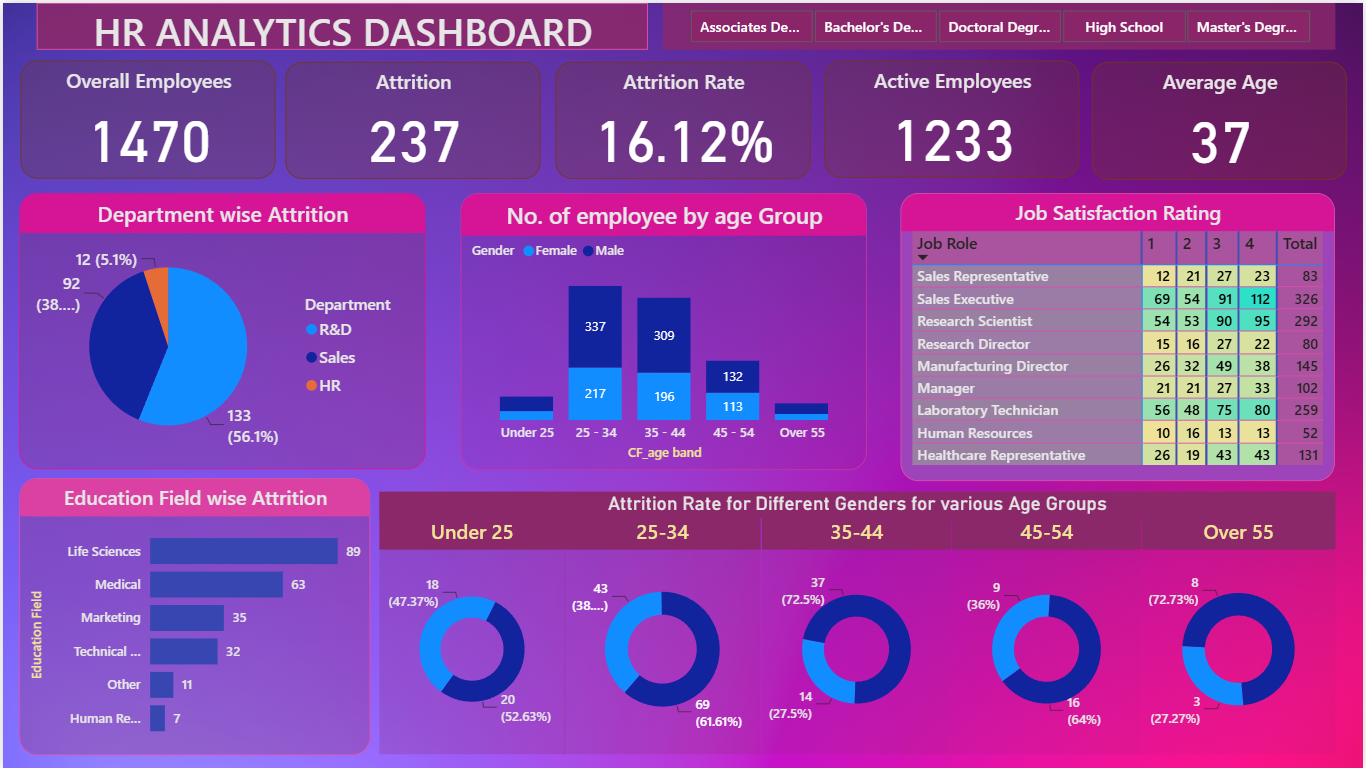

The dashboard page shown, as its layout file describes it:
{"tool":"powerbi","page":{"name":"Page 1","canvas":[1280,720],"ordinal":0},"visuals":[{"type":"card","title":"Overall Employees","fields":{"Values":["Sum(HR data.Employee Count)"]},"box":[16.2,53.8,240,111.2],"z":0},{"type":"card","title":"Attrition","fields":{"Values":["Sum(HR data.Attrition Count )"]},"box":[266.2,55,240,110],"z":1000},{"type":"card","title":"Attrition Rate","fields":{"Values":["HR data.Attrition Rate"]},"box":[520,55,240,110],"z":2000},{"type":"card","title":"Active Employees ","fields":{"Values":["HR data.Active Employees"]},"box":[772.5,53.8,240,110],"z":3000},{"type":"card","title":"Average Age ","fields":{"Values":["Avg(HR data.Age)"]},"box":[1025,55,240,111.2],"z":4000},{"type":"pieChart","title":"Department wise Attrition","fields":{"Category":["HR data.Department"],"Y":["Sum(HR data.Attrition Count )"]},"box":[15.7,178.5,382,260],"z":5000},{"type":"columnChart","title":"No. of employee by age Group ","fields":{"Category":["HR data.CF_age band"],"Y":["Sum(HR data.Employee Count)"],"Series":["HR data.Gender"]},"box":[430.6,178.5,382.3,260.5],"z":6000},{"type":"pivotTable","title":"Job Satisfaction Rating ","fields":{"Rows":["HR data.Job Role"],"Columns":["HR data.Job Satisfaction"],"Values":["Sum(HR data.Employee Count)"]},"box":[845,178.8,408.8,271.2],"z":7000},{"type":"barChart","title":"Education Field wise Attrition","fields":{"Category":["HR data.Education Field"],"Y":["Sum(HR data.Attrition Count )"]},"box":[15.7,447.4,330.5,260.5],"z":8000},{"type":"donutChart","title":"Under 25","fields":{"Category":["HR data.Gender"],"Y":["Sum(HR data.Attrition Count )"],"Series":["HR data.CF_age band"]},"box":[353.8,485,175,222.5],"z":9000},{"type":"donutChart","title":"25-34","fields":{"Category":["HR data.Gender"],"Y":["Sum(HR data.Attrition Count )"],"Series":["HR data.CF_age band"]},"box":[528.8,485,185,222.5],"z":10000},{"type":"donutChart","title":"35-44","fields":{"Category":["HR data.Gender"],"Y":["Sum(HR data.Attrition Count )"],"Series":["HR data.CF_age band"]},"box":[713.8,485,178.8,222.5],"z":11000},{"type":"donutChart","title":"45-54","fields":{"Category":["HR data.Gender"],"Y":["Sum(HR data.Attrition Count )"],"Series":["HR data.CF_age band"]},"box":[892.5,485,178.8,222.5],"z":12000},{"type":"donutChart","title":"Over 55","fields":{"Category":["HR data.Gender"],"Y":["Sum(HR data.Attrition Count )"],"Series":["HR data.CF_age band"]},"box":[1071.2,485,182.5,222.5],"z":13000},{"type":"textbox","title":"Attrition Rate for Different Genders for various Age Groups ","box":[353.8,460,900,25],"z":14000},{"type":"textbox","title":"HR ANALYTICS DASHBOARD ","box":[31.2,0,575,43.8],"z":15000},{"type":"slicer","fields":{"Values":["HR data.Education"]},"box":[621.2,0,632.5,43.8],"z":16000}]}

Visuals, with their boxes in screenshot pixels (x1, y1, x2, y2), scaled from the page's 1280x720 canvas onto the 1366x768 screenshot:
"Overall Employees" card: [left=17, top=57, right=273, bottom=176]
"Attrition" card: [left=284, top=59, right=540, bottom=176]
"Attrition Rate" card: [left=555, top=59, right=811, bottom=176]
"Active Employees " card: [left=824, top=57, right=1081, bottom=175]
"Average Age " card: [left=1094, top=59, right=1350, bottom=177]
"Department wise Attrition" pieChart: [left=17, top=190, right=424, bottom=468]
"No. of employee by age Group " columnChart: [left=460, top=190, right=868, bottom=468]
"Job Satisfaction Rating " pivotTable: [left=902, top=191, right=1338, bottom=480]
"Education Field wise Attrition" barChart: [left=17, top=477, right=369, bottom=755]
"Under 25" donutChart: [left=378, top=517, right=564, bottom=755]
"25-34" donutChart: [left=564, top=517, right=762, bottom=755]
"35-44" donutChart: [left=762, top=517, right=953, bottom=755]
"45-54" donutChart: [left=952, top=517, right=1143, bottom=755]
"Over 55" donutChart: [left=1143, top=517, right=1338, bottom=755]
"Attrition Rate for Different Genders for various Age Groups " textbox: [left=378, top=491, right=1338, bottom=517]
"HR ANALYTICS DASHBOARD " textbox: [left=33, top=0, right=647, bottom=47]
slicer - HR data.Education: [left=663, top=0, right=1338, bottom=47]
